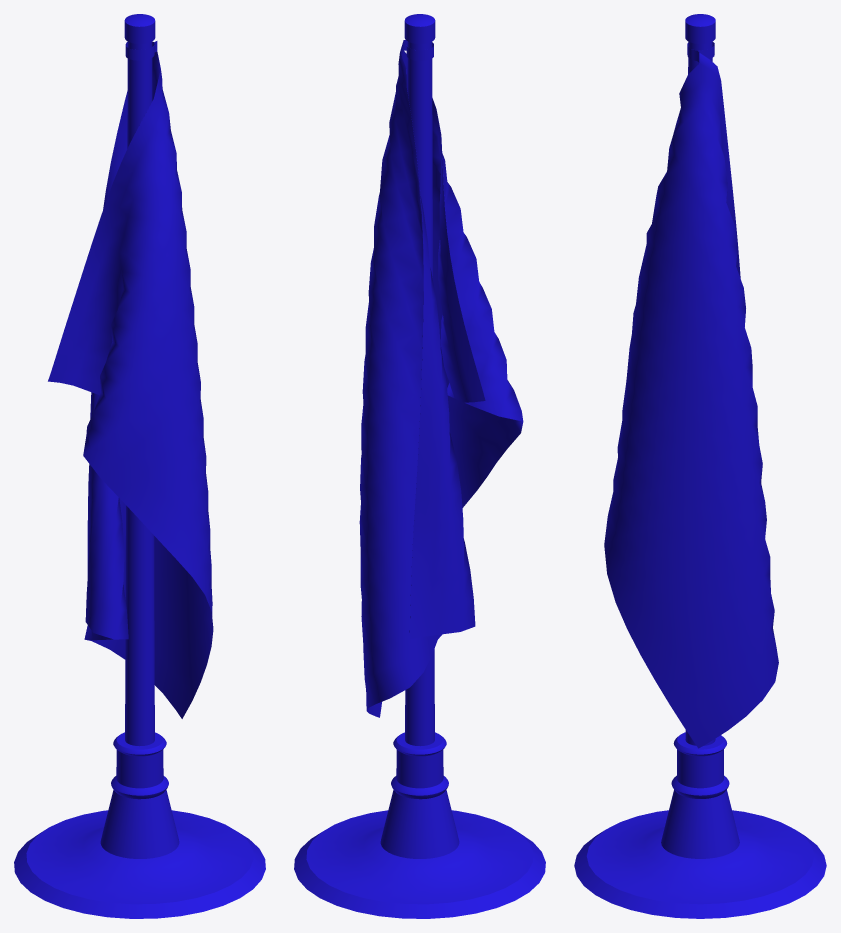
Rendered from Flag.fbx.
3 renders of one model, left to right at view 1: azimuth 30°, elevation 25°; view 2: azimuth 150°, elevation 25°; view 3: azimuth 270°, elevation 25°, orthographic.
Parts seen in each view (by area): view 1: Flag_Low; view 2: Flag_Low; view 3: Flag_Low.
Boxes of the visible parts, box(x1,y1,x2,y2) form: Flag_Low: box(14, 14, 265, 918); Flag_Low: box(294, 14, 545, 918); Flag_Low: box(574, 14, 826, 918).
Size of the model in its own units: 24.49 by 90.74 by 24.49.
